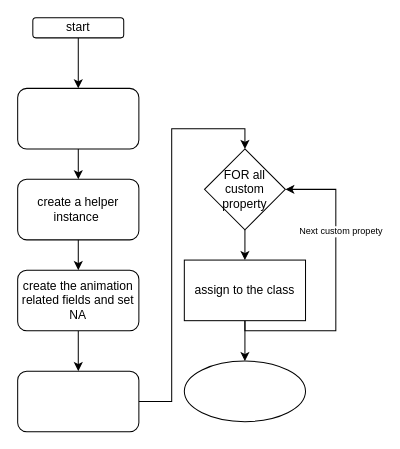
The diagram is 400 pixels wide and 449 high, and some of its shapes have lost their labels. Here are the shapes that lost their labels. From the top down, the centre of each, then its label:
the point at 78,118: assign the vehicle rvo id,agent type
the point at 78,401: assign property
the point at 244,391: end
